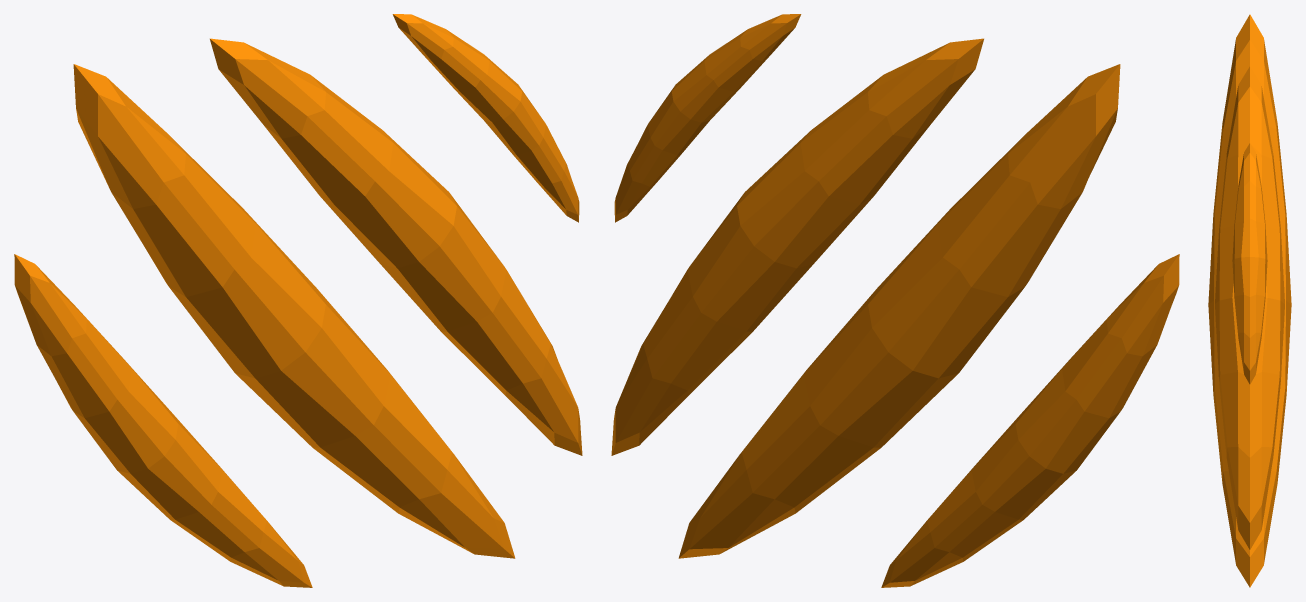
Rendered from AtkSpd.fbx.
The picture shows the model from 3 angles, left to right: view 1: azimuth 30°, elevation 25°; view 2: azimuth 150°, elevation 25°; view 3: azimuth 270°, elevation 25°; orthographic projection. The views are drawn at different scales.
Parts seen in each view (by area): view 1: AttackSpeed.Full; view 2: AttackSpeed.Full; view 3: AttackSpeed.Full.
Boxes of the visible parts, <box> form: AttackSpeed.Full: <box>14,14,582,587</box>; AttackSpeed.Full: <box>611,14,1179,587</box>; AttackSpeed.Full: <box>1208,14,1291,587</box>.
Size of the model in its own units: 38.62 by 39.16 by 6.99.
